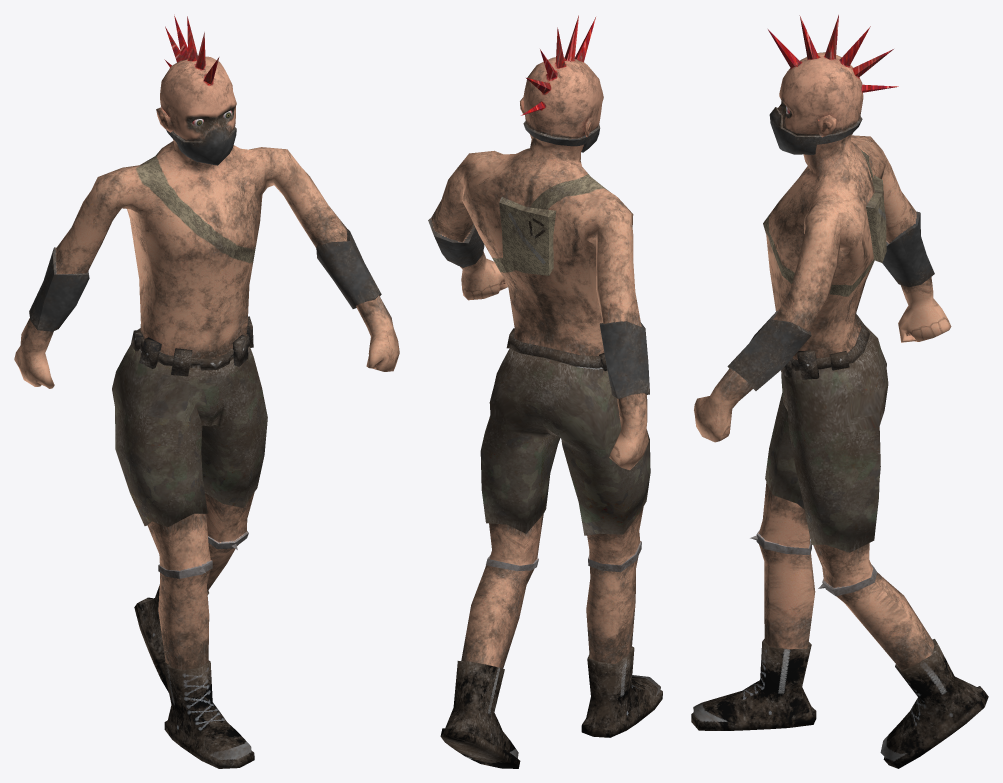
Rendered from Anim_andar_npc2.0027.obj.
The picture shows the model from 3 angles, left to right: view 1: azimuth 30°, elevation 25°; view 2: azimuth 150°, elevation 25°; view 3: azimuth 270°, elevation 25°; orthographic projection. The views are drawn at different scales.
Parts seen in each view (by area): view 1: Anim_andar_npc2; view 2: Anim_andar_npc2; view 3: Anim_andar_npc2.
Boxes of the visible parts, <box> form: Anim_andar_npc2: <box>14,14,399,768</box>; Anim_andar_npc2: <box>428,15,662,768</box>; Anim_andar_npc2: <box>691,15,988,768</box>.
Size of the model in its own units: 4.21 by 10.34 by 3.79.
